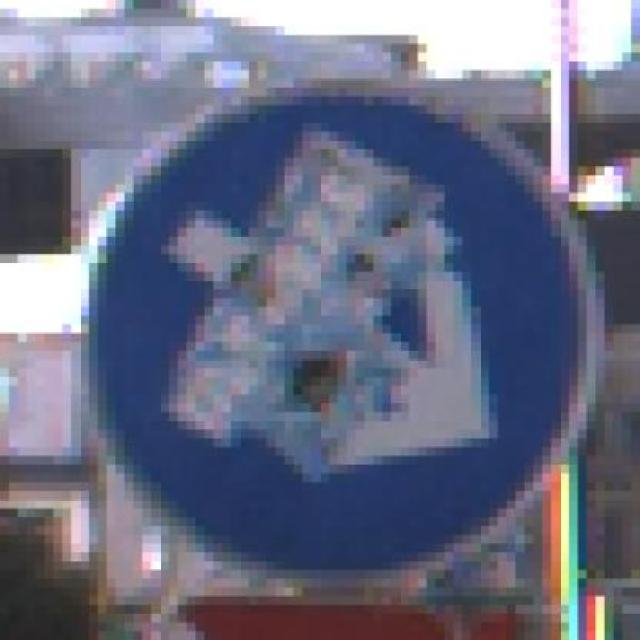Keep-Right: (53, 87, 613, 578)
